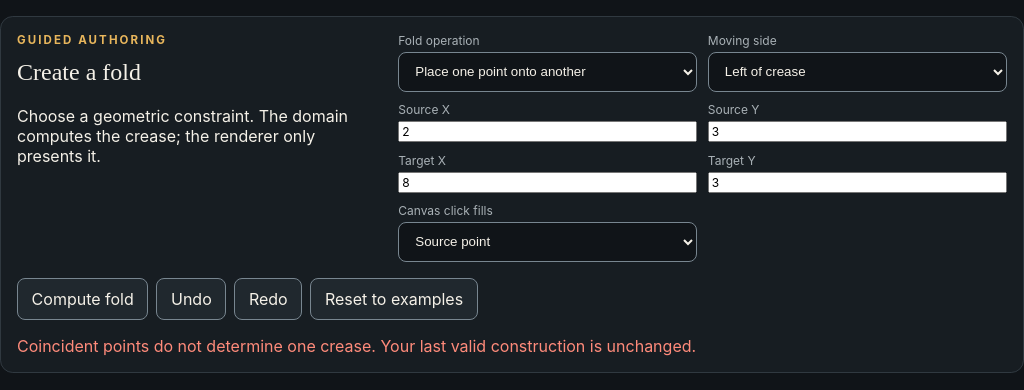
Test case: OrigamiAuthorPanel › exposes branch selection and recoverable errors
The width and height of the screenshot is (1024, 390).
Select "Place one line onto another" in the dropdown labelled "Fold operation": (548, 72) x1=398 y1=52 x2=698 y2=92
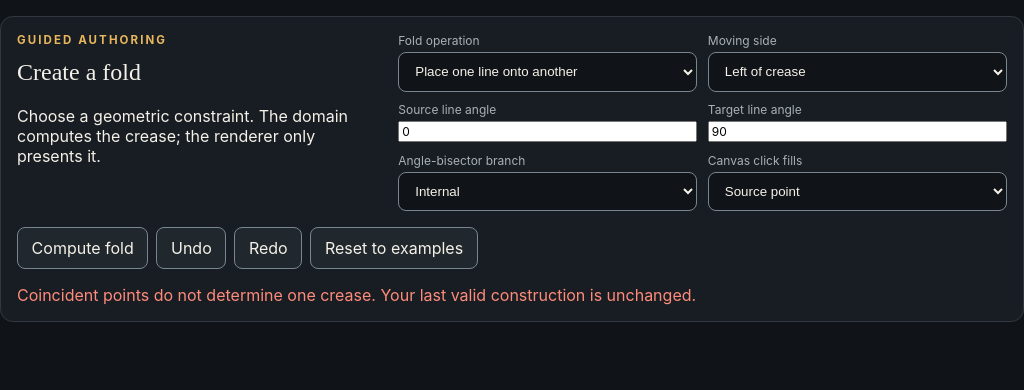
Expected: the message shows "last valid construction is unchanged", x1=376 y1=285 x2=696 y2=305
Expected: the dropdown labelled "Angle-bisector branch" is shown, x1=398 y1=172 x2=698 y2=211
